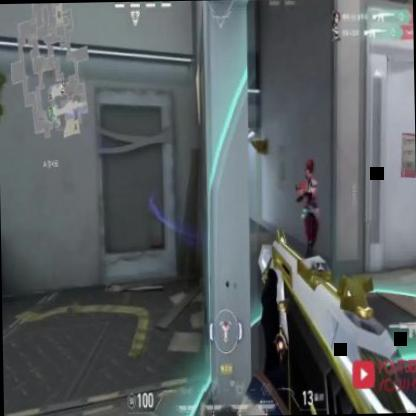enemy: (291, 152, 320, 262)
enemy_head: (305, 162, 314, 184)
